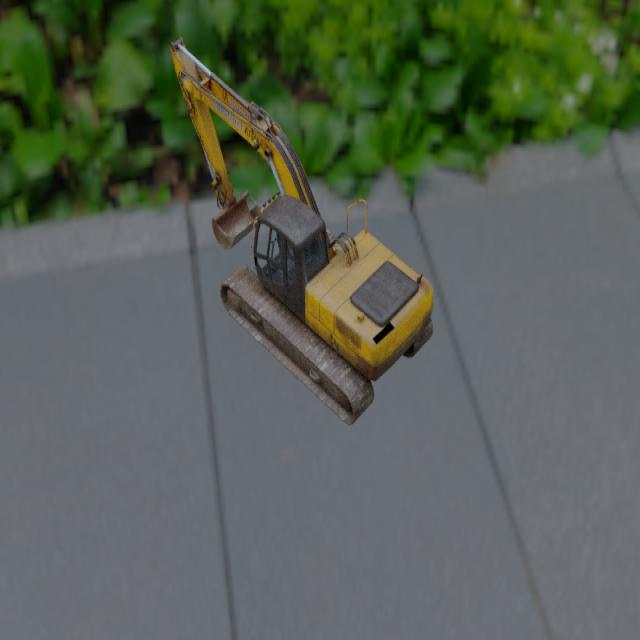excavator: (169, 35, 433, 425)
